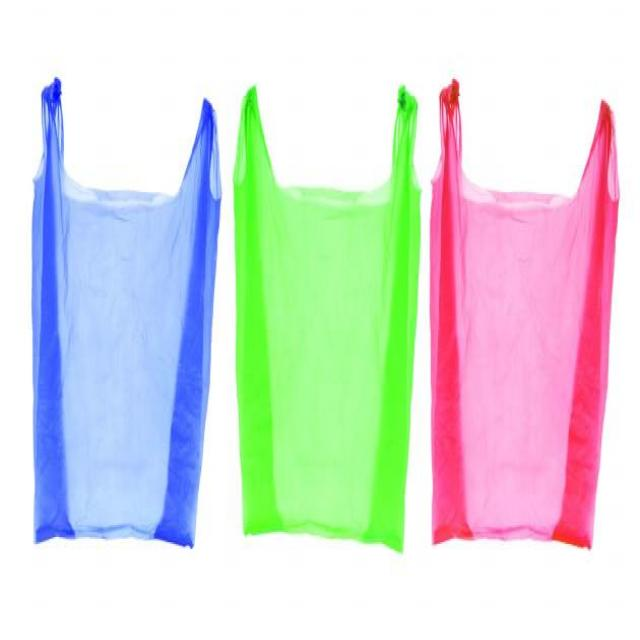plastic_bag: (229, 74, 426, 559), (30, 71, 225, 553), (430, 76, 625, 552)
